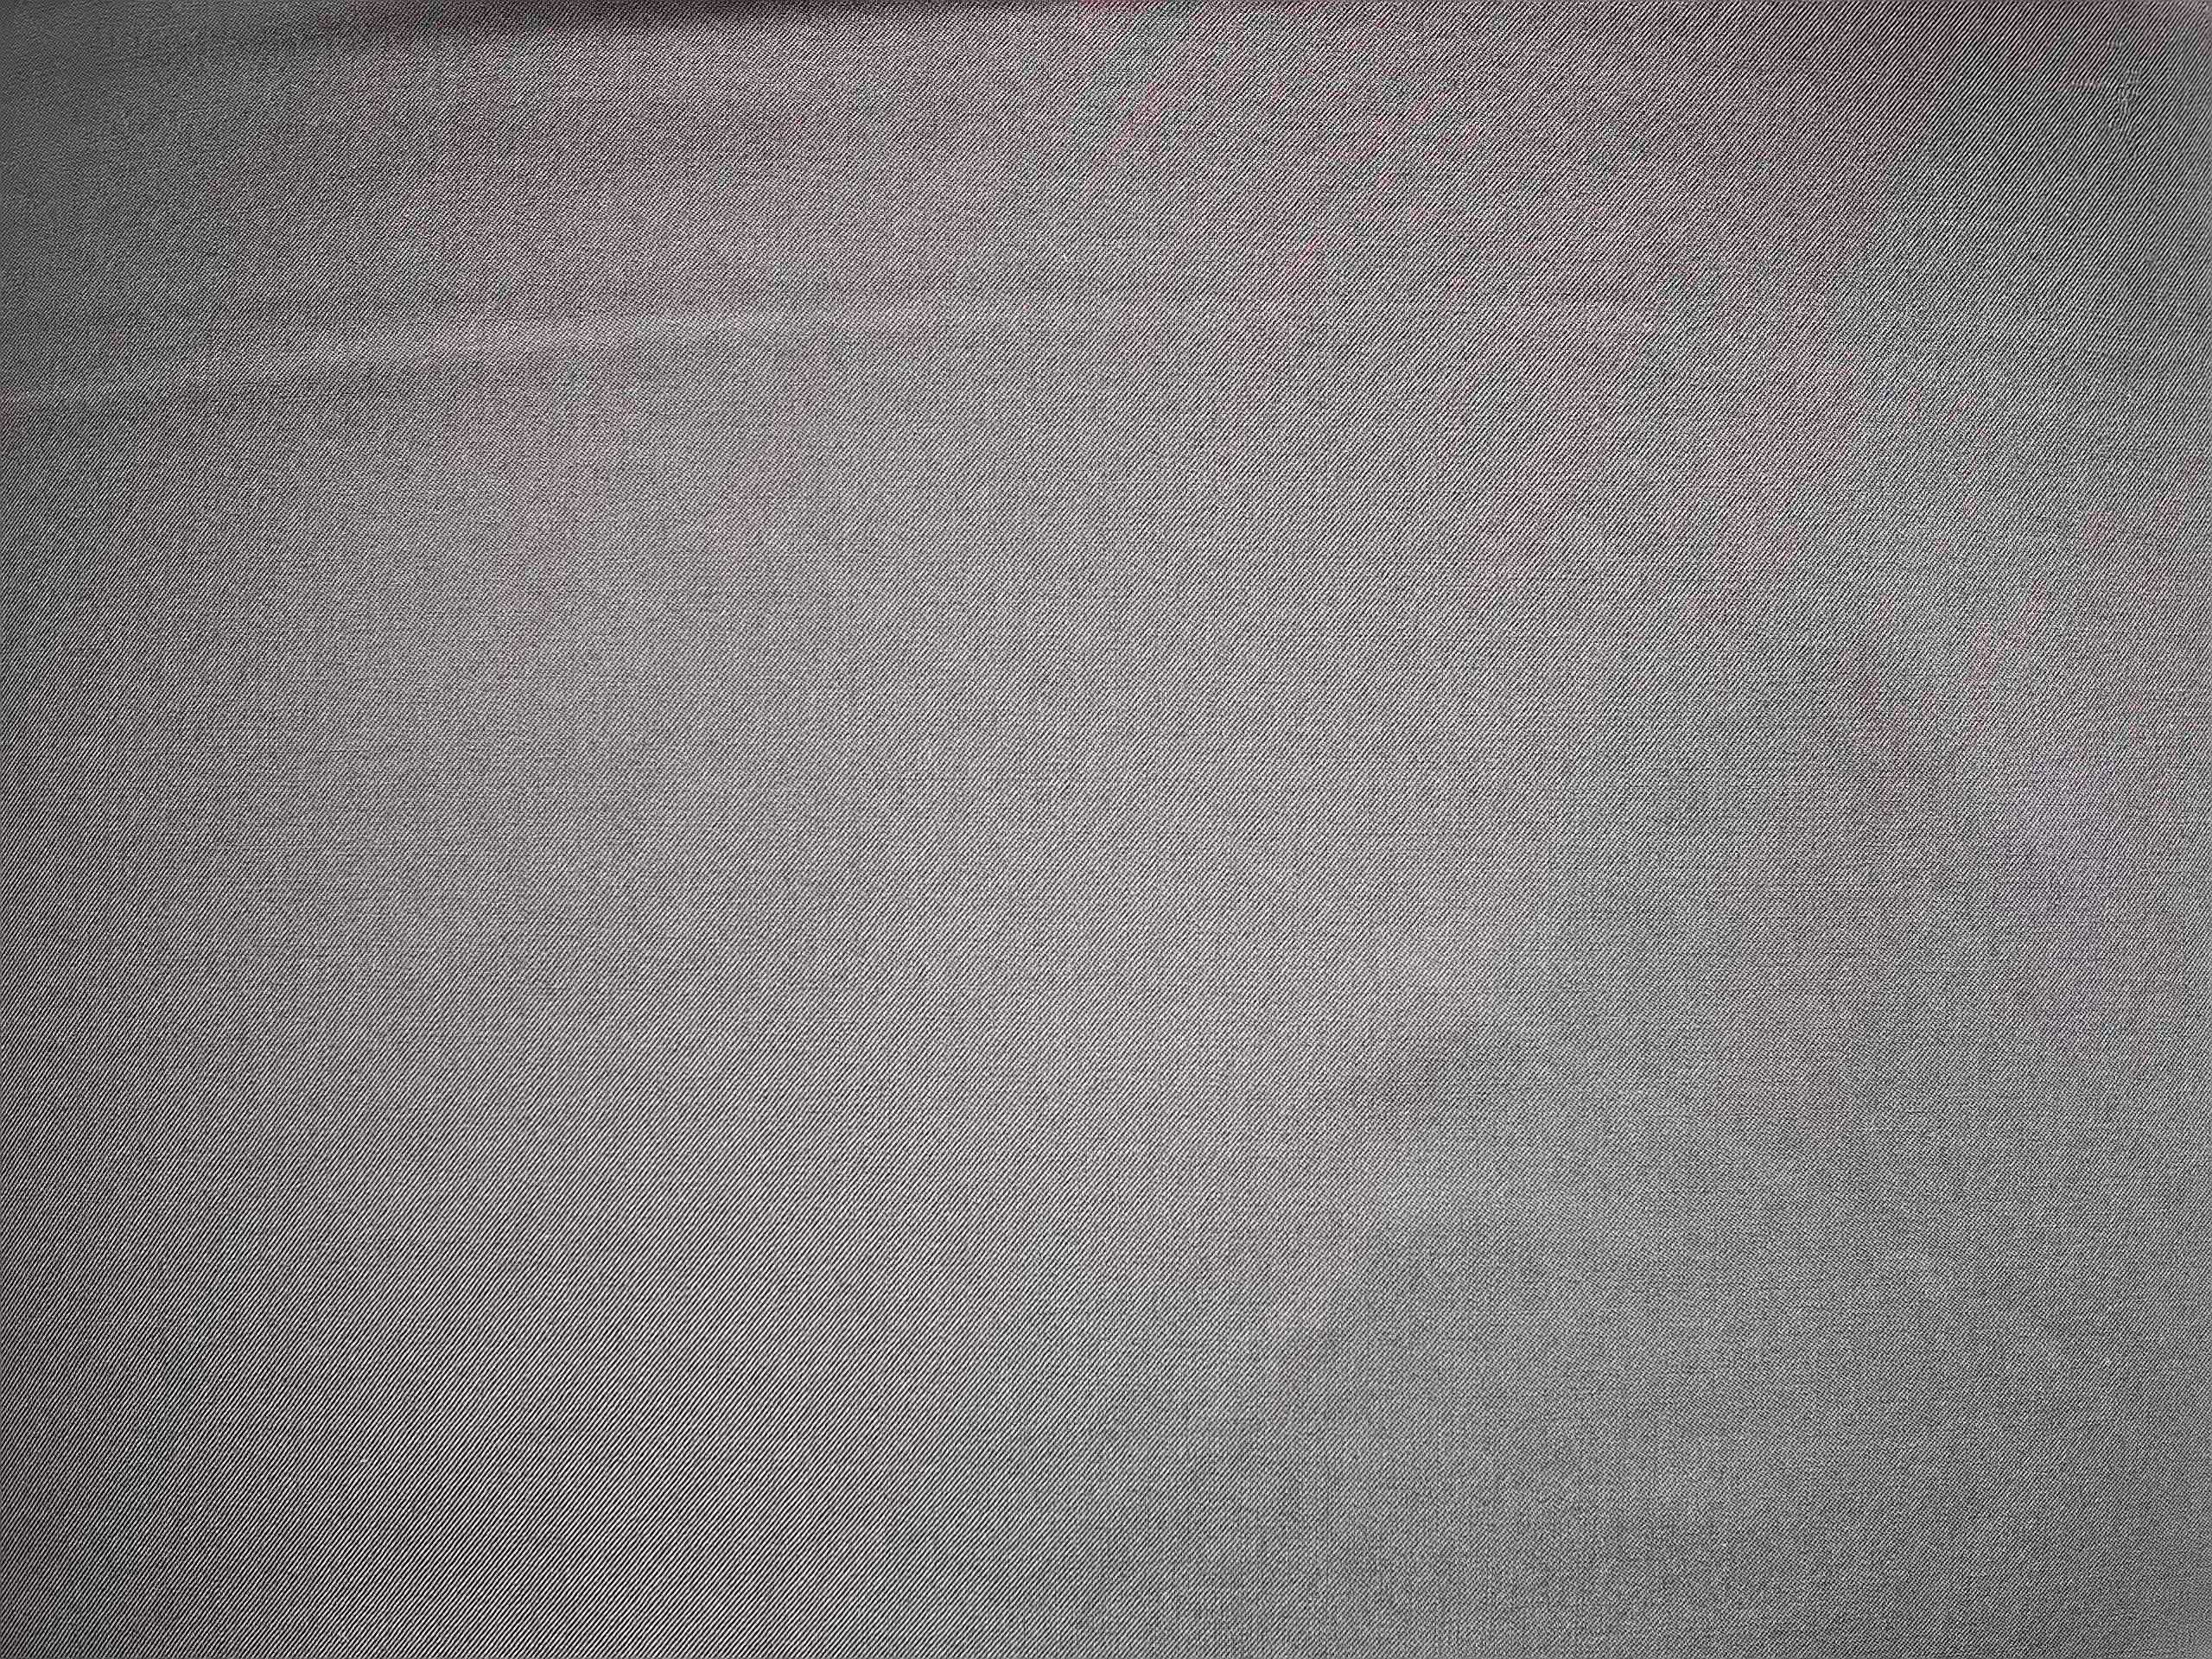jumps: (2064, 17, 2164, 164)
